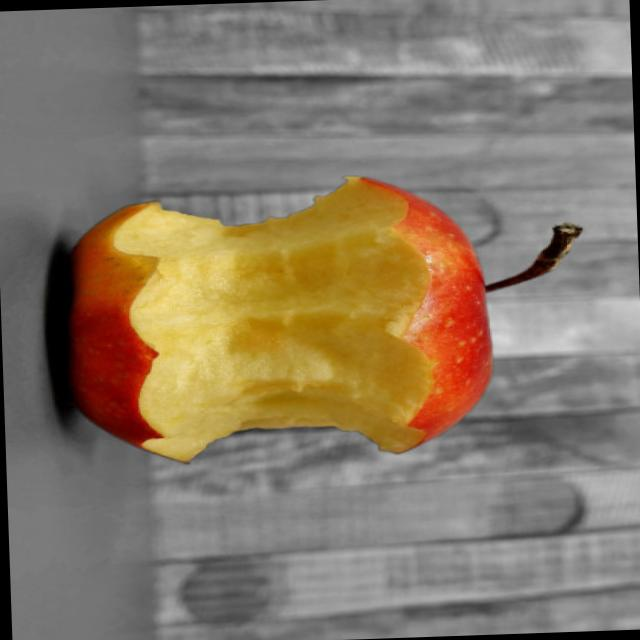apple_fruit: (14, 145, 599, 492)
